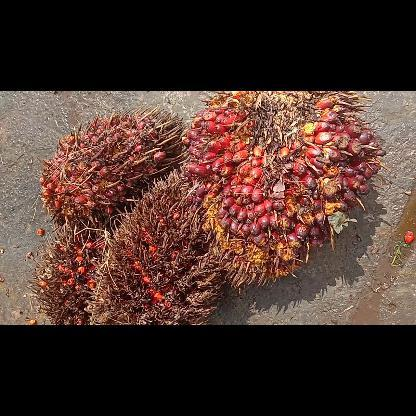TBS masak: (178, 91, 384, 291), (39, 107, 185, 226)
Terlalu masak: (85, 168, 225, 324), (29, 226, 108, 324)
